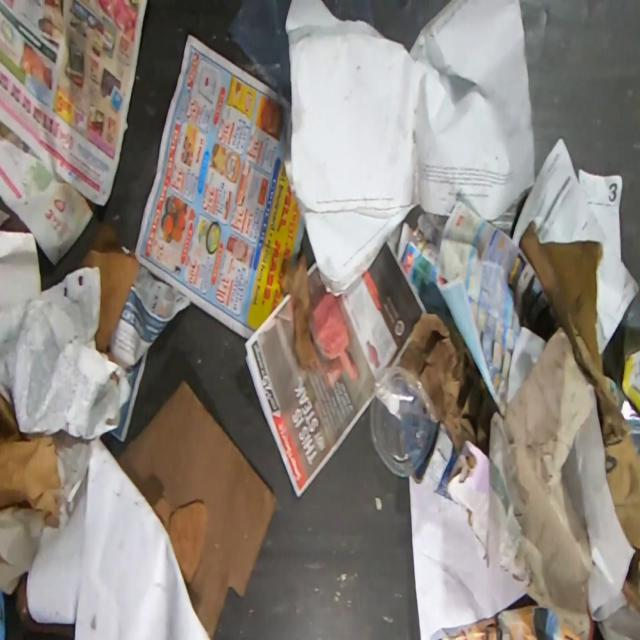cardboard: (447, 327, 598, 636), (117, 380, 279, 640), (518, 219, 640, 549), (398, 314, 490, 451), (0, 387, 62, 528), (78, 224, 139, 353), (290, 254, 321, 374)
rigid_plastic: (369, 368, 438, 478)
soft_plastic: (229, 0, 294, 106)
